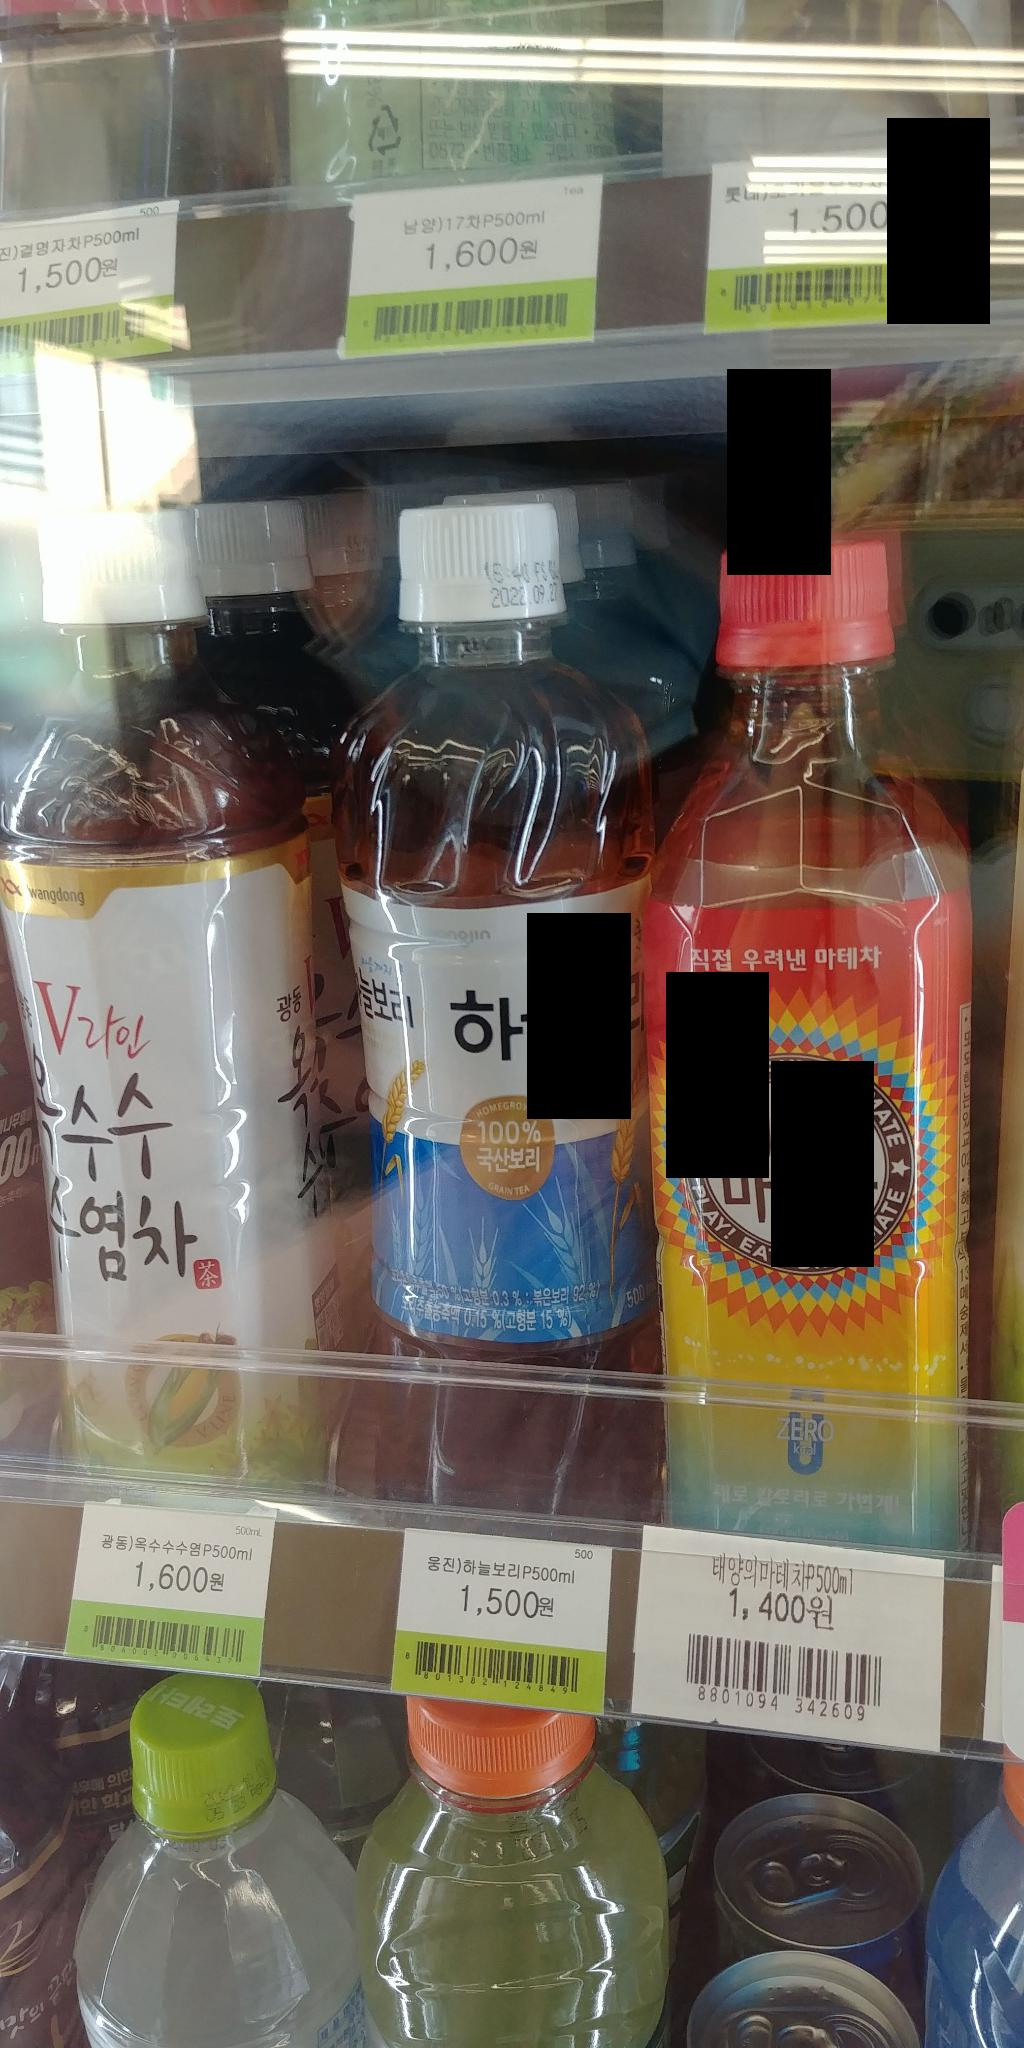haneulbori: (296, 504, 690, 1528)
oksususuyeomcha: (0, 504, 357, 1493)
